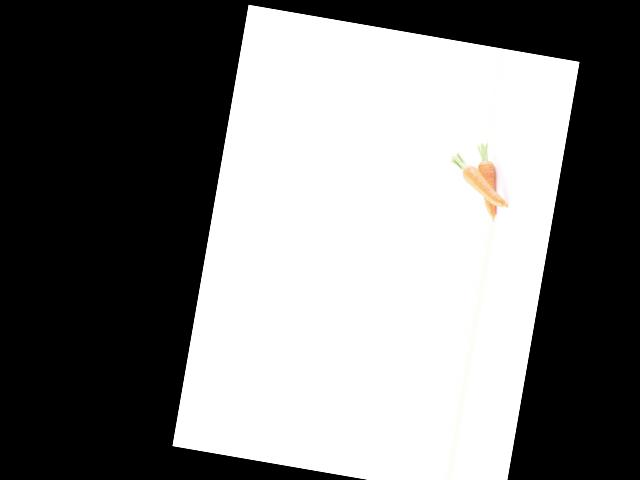carrot: (472, 150, 503, 220)
